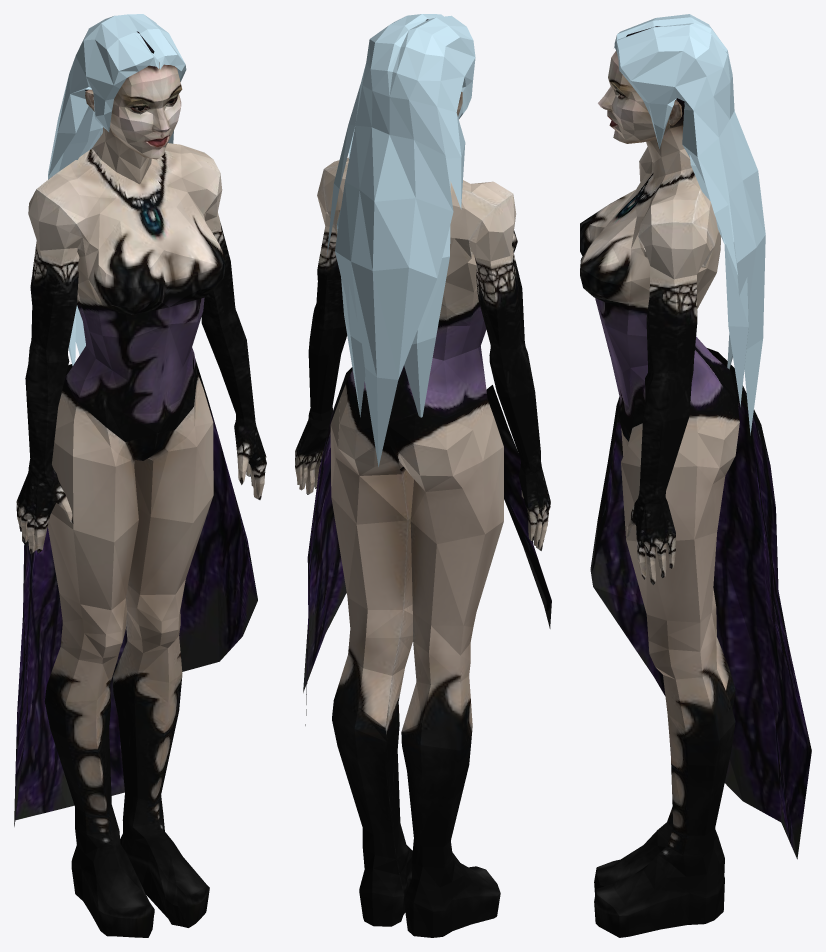
Rendered from normal.obj.
The picture shows the model from 3 angles, left to right: view 1: azimuth 30°, elevation 25°; view 2: azimuth 150°, elevation 25°; view 3: azimuth 270°, elevation 25°; orthographic projection. The views are drawn at different scales.
Parts seen in each view (by area): view 1: Plane.001_Plane.007, Plane.003_Plane.008, capelli.001_Plane.006; view 2: Plane.001_Plane.007, capelli.001_Plane.006, Plane.003_Plane.008; view 3: Plane.001_Plane.007, Plane.003_Plane.008, capelli.001_Plane.006.
Part boxes in pixels (x1,y1,x2,y2): Plane.001_Plane.007: (16,31,266,937); Plane.003_Plane.008: (14,359,257,826); capelli.001_Plane.006: (48,14,186,365); Plane.001_Plane.007: (295,19,550,937); capelli.001_Plane.006: (326,14,475,466); Plane.003_Plane.008: (303,367,551,725); Plane.001_Plane.007: (580,26,739,937); Plane.003_Plane.008: (590,347,811,859); capelli.001_Plane.006: (614,14,765,435).
Size of the model in its own units: 1.59 by 5.58 by 1.31.
